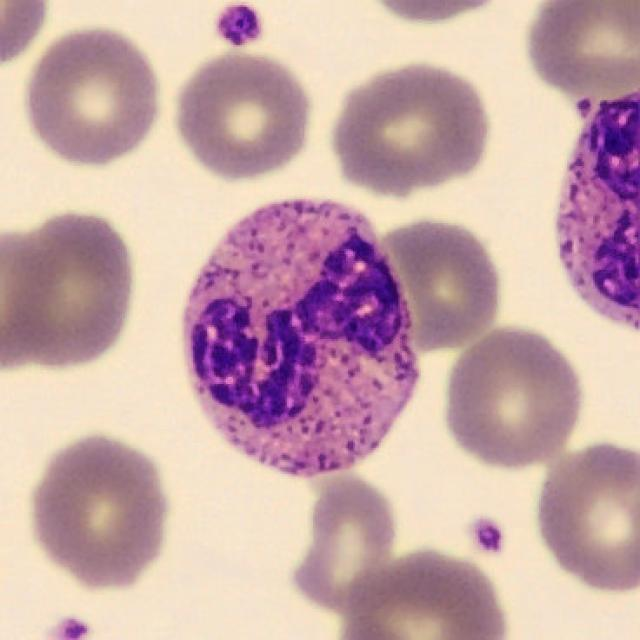Neutrofilo segmentado: (181, 199, 421, 479)
